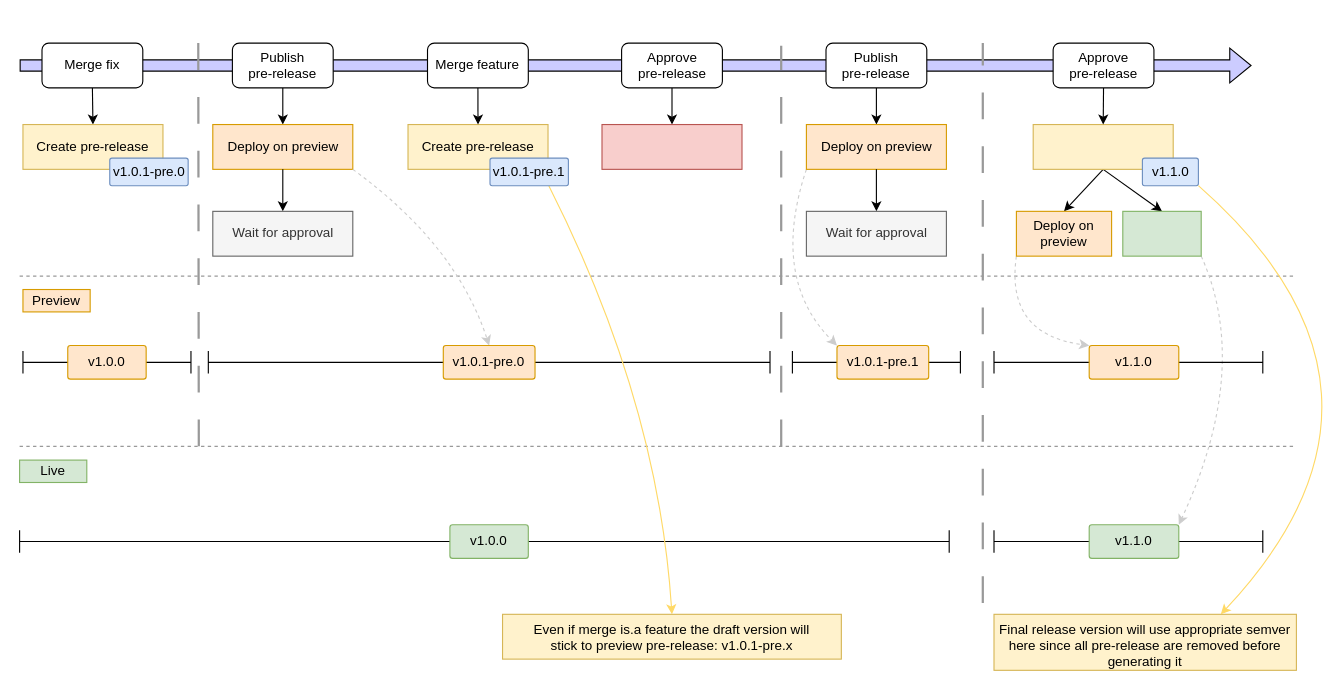
Image size: 1342x690. Some labels were removed from this diagram. Each missing label, with the box of its shape:
CircleCI job automatically aborted: (601, 123, 742, 169)
Deploy on live: (1122, 210, 1201, 256)
Release creation: (1032, 123, 1173, 169)
